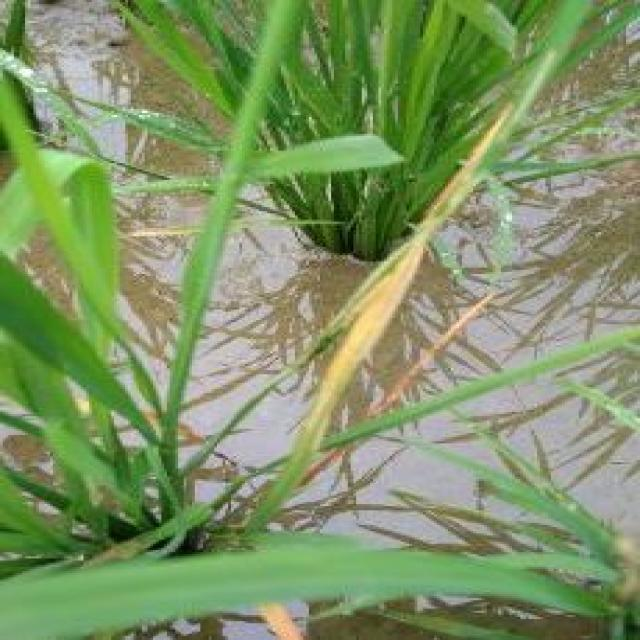Tungro: (237, 123, 580, 446)
